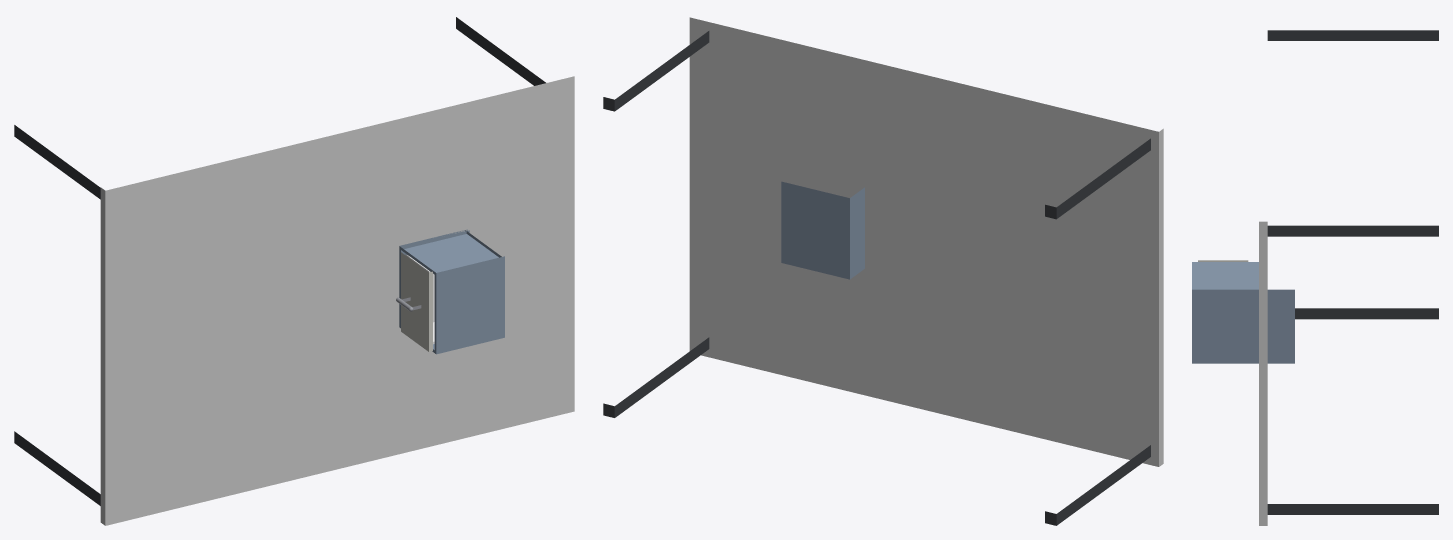
The model's file is t2_dad6d55203.glb.
The picture shows the model from 3 angles, left to right: view 1: azimuth 30°, elevation 25°; view 2: azimuth 150°, elevation 25°; view 3: azimuth 270°, elevation 25°; orthographic projection. The views are drawn at different scales.
Visible parts, largest first — view 1: s0, s1, s2; view 2: s0, s1; view 3: s0, s1.
Part boxes in pixels (box(x1,y1,x2,y2)): s0: box(14, 17, 574, 525); s1: box(399, 229, 504, 354); s2: box(396, 252, 434, 351); s0: box(603, 17, 1163, 525); s1: box(781, 181, 864, 279); s0: box(1259, 30, 1438, 525); s1: box(1192, 262, 1294, 363).
Size of the model in its own units: 2.05 by 1.4 by 1.03.
